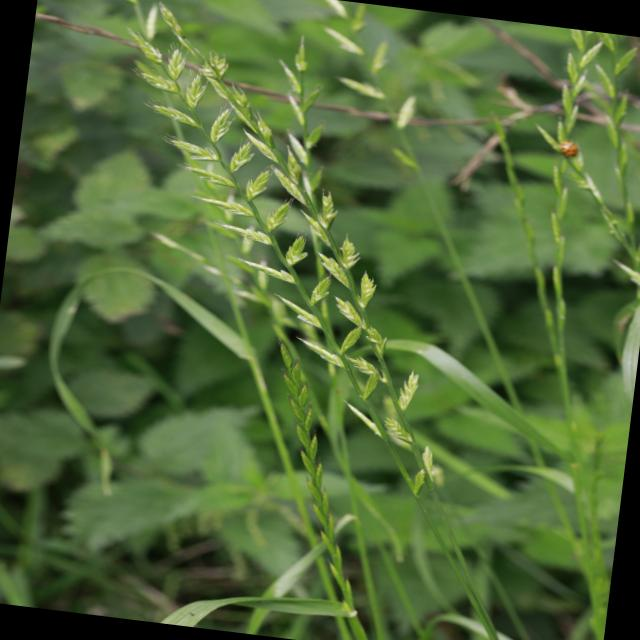Lolium: (10, 0, 640, 640), (111, 14, 477, 508)
